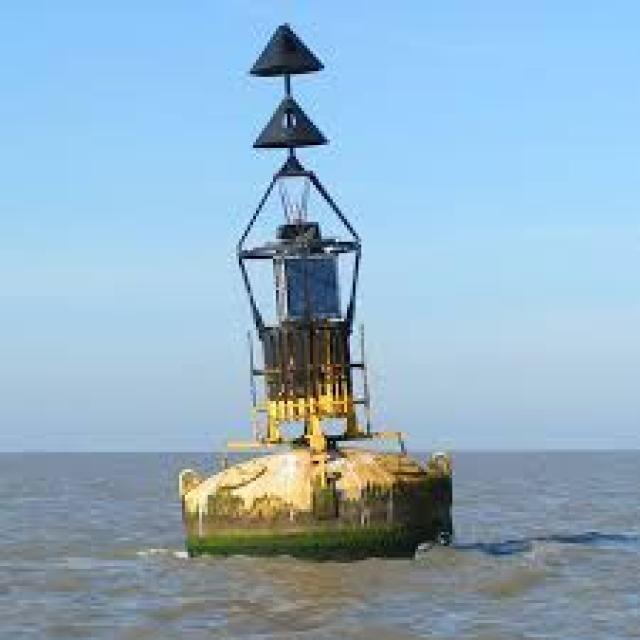marque: (155, 3, 469, 582)
